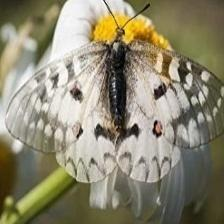butterfly: (6, 24, 224, 183)
